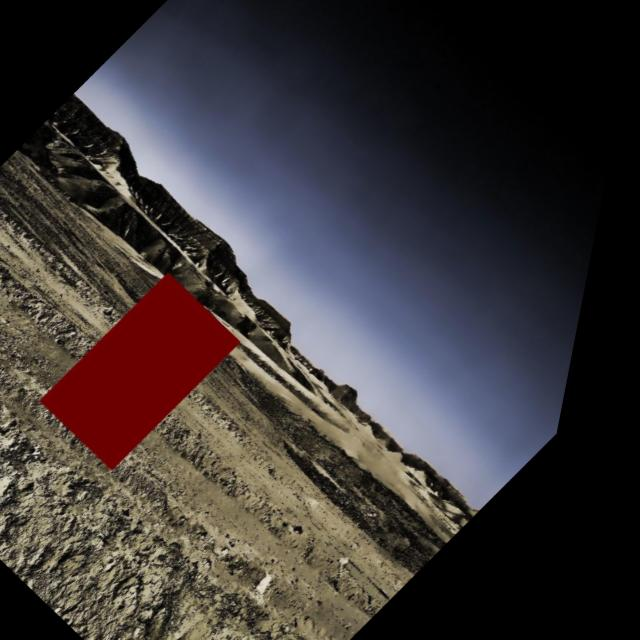RedSquare: (35, 261, 277, 478)
